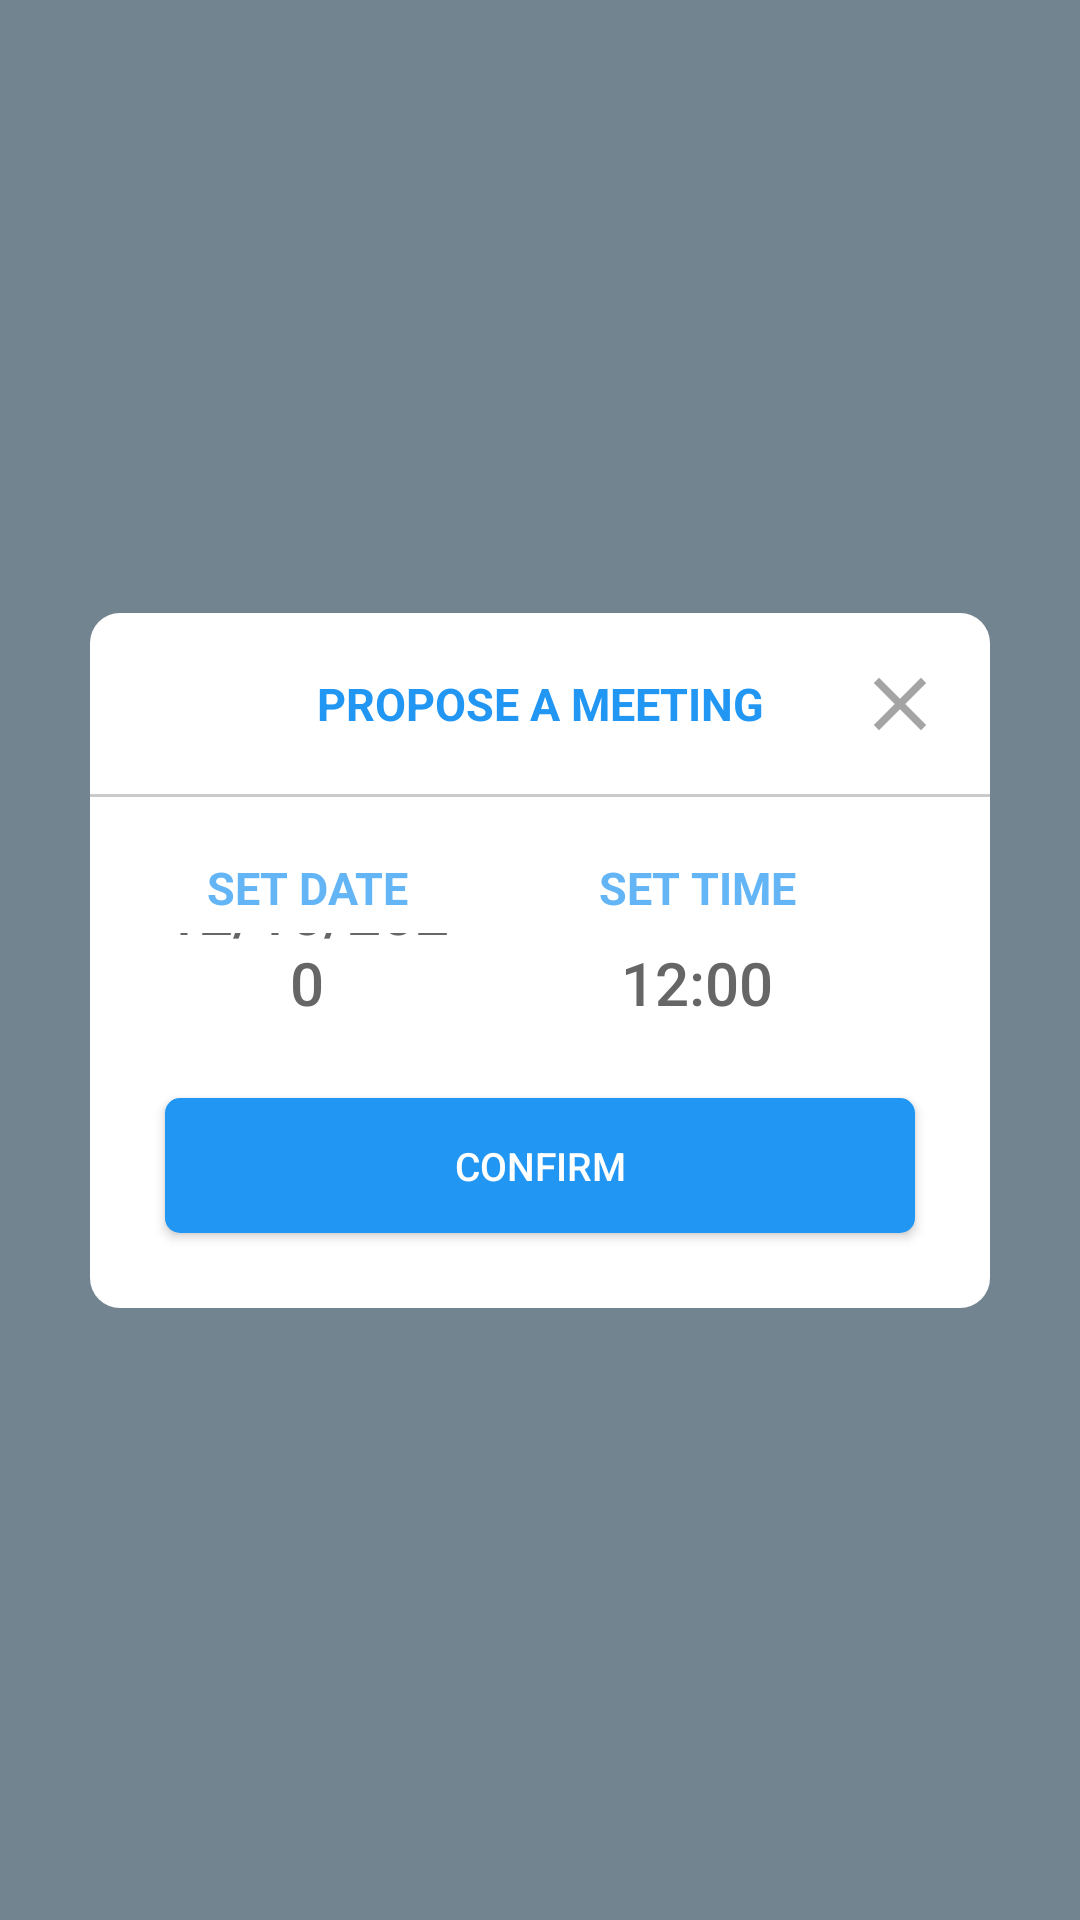

Icon click points for this 1080×1920 phone screenshot, format (x,y):
close: (900,704)
